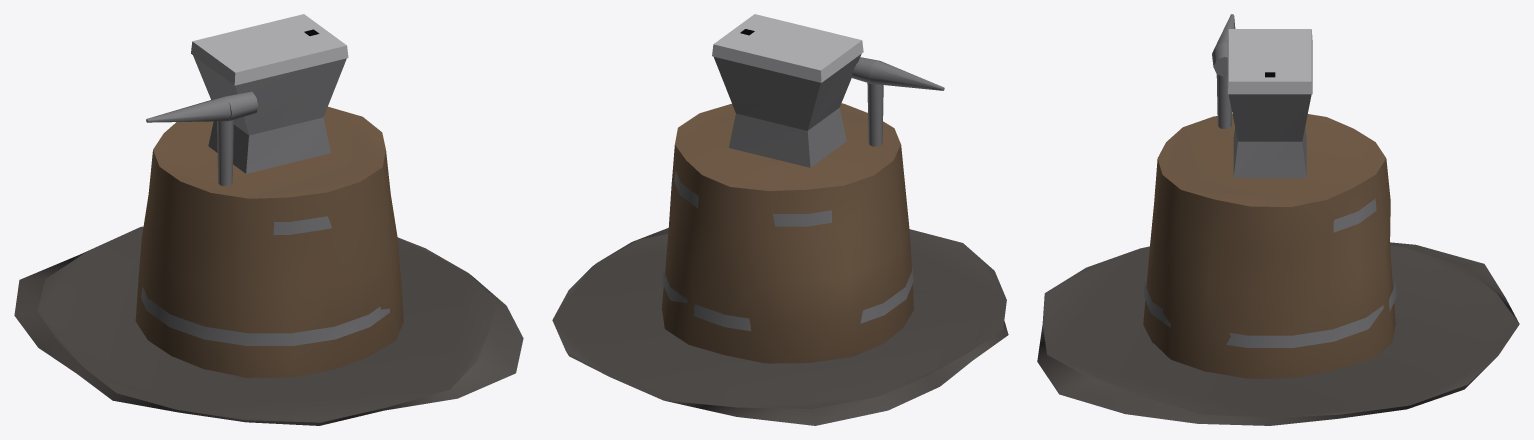
File: kalev_smithy_anvil.glb
3 renders of one model, left to right at view 1: azimuth 30°, elevation 25°; view 2: azimuth 150°, elevation 25°; view 3: azimuth 270°, elevation 25°, orthographic. The views are drawn at different scales.
Visible parts, largest first — view 1: kalev_smithy_anvil_oak, kalev_smithy_anvil_ash, kalev_smithy_anvil_iron, kalev_smithy_anvil_iron_bright; view 2: kalev_smithy_anvil_oak, kalev_smithy_anvil_ash, kalev_smithy_anvil_iron, kalev_smithy_anvil_iron_bright; view 3: kalev_smithy_anvil_oak, kalev_smithy_anvil_ash, kalev_smithy_anvil_iron, kalev_smithy_anvil_iron_bright.
Boxes of the visible parts, box(x1,y1,x2,y2) form: kalev_smithy_anvil_oak: box(135, 106, 403, 377); kalev_smithy_anvil_ash: box(14, 226, 523, 425); kalev_smithy_anvil_iron: box(141, 55, 389, 345); kalev_smithy_anvil_iron_bright: box(191, 14, 348, 85); kalev_smithy_anvil_oak: box(661, 103, 913, 363); kalev_smithy_anvil_ash: box(552, 228, 1008, 425); kalev_smithy_anvil_iron: box(661, 54, 944, 331); kalev_smithy_anvil_iron_bright: box(712, 14, 863, 82); kalev_smithy_anvil_oak: box(1143, 114, 1395, 378); kalev_smithy_anvil_ash: box(1037, 242, 1519, 425); kalev_smithy_anvil_iron: box(1143, 14, 1396, 347); kalev_smithy_anvil_iron_bright: box(1227, 29, 1312, 94).
Size of the model in its own units: 1.18 by 0.8015 by 1.28.
